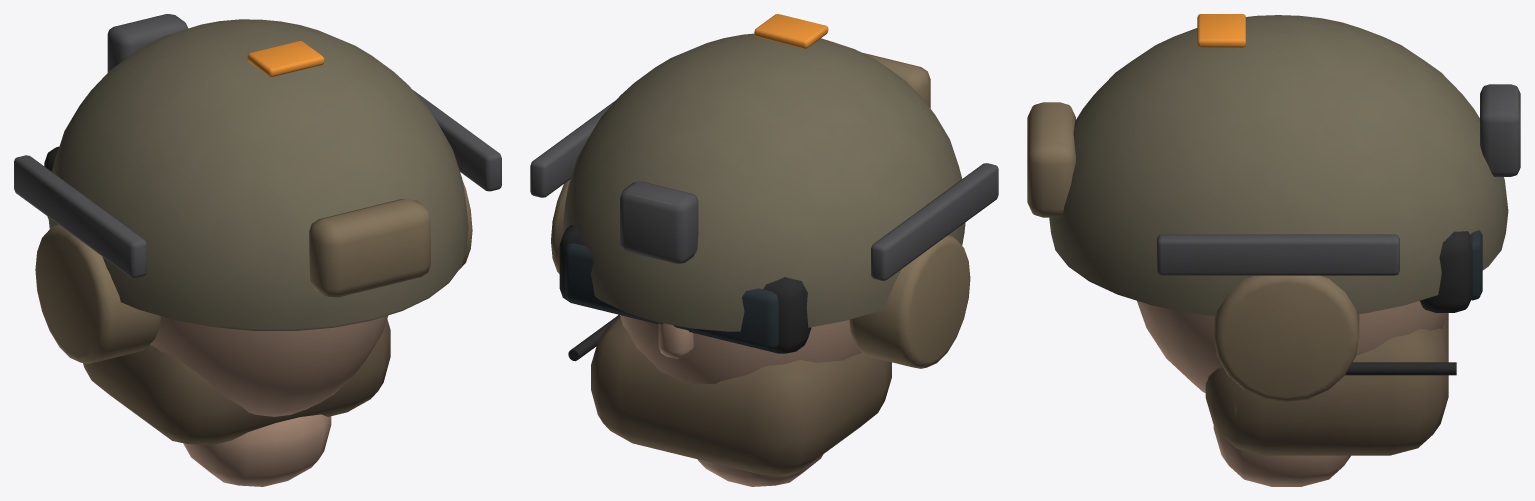
Rendered from SM_OperatorAHead.fbx.
3 views of the same model, side by side, from view 1: azimuth 30°, elevation 25°; view 2: azimuth 150°, elevation 25°; view 3: azimuth 270°, elevation 25° (orthographic). The views are drawn at different scales.
Visible parts, largest first — view 1: SM_OperatorAHead; view 2: SM_OperatorAHead; view 3: SM_OperatorAHead.
Part boxes in pixels (box(x1,y1,x2,y2)): SM_OperatorAHead: box(14, 14, 501, 486); SM_OperatorAHead: box(530, 14, 998, 486); SM_OperatorAHead: box(1027, 14, 1520, 486).
Size of the model in its own units: 0.269 by 0.306 by 0.3045.
1 material, 1 textured.
